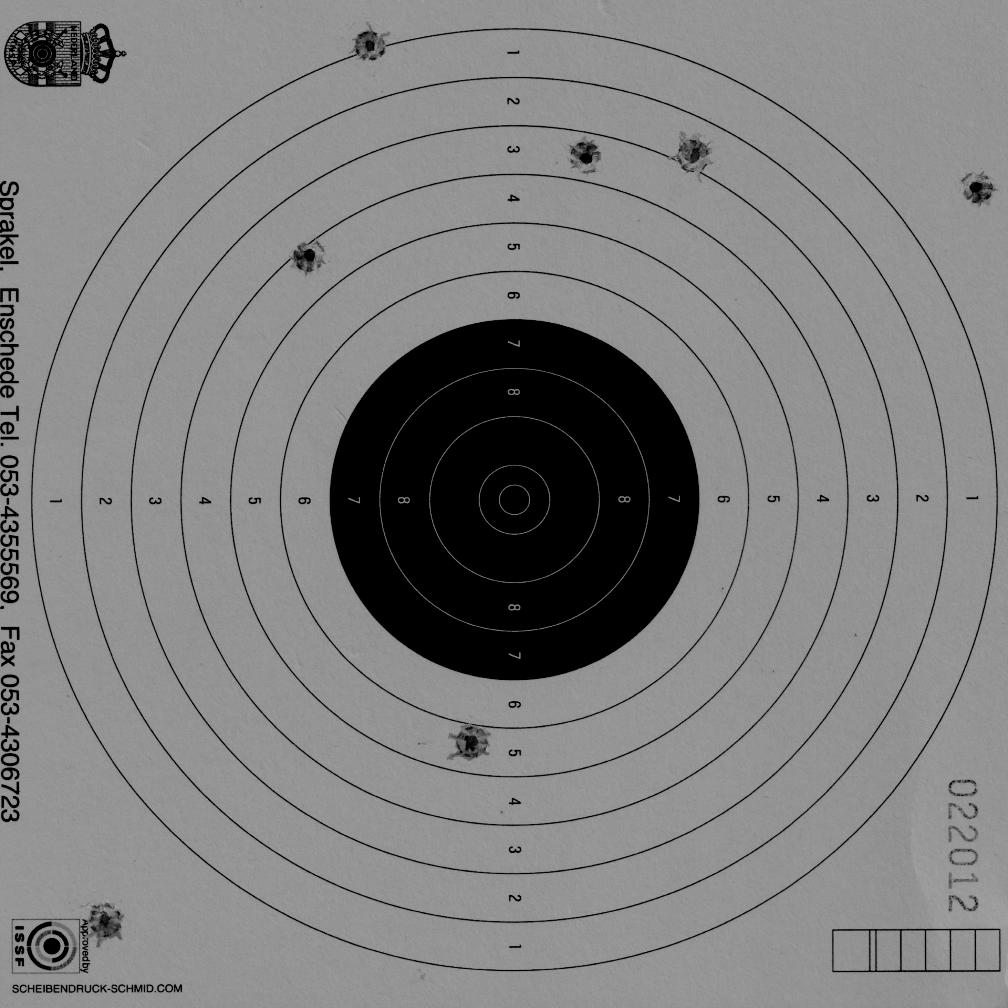0: (76, 899, 131, 950), (956, 167, 1000, 211), (346, 22, 391, 65)
3: (667, 131, 718, 182), (567, 136, 603, 176)
4: (289, 238, 328, 277)
6: (444, 721, 491, 764)
Target: (28, 24, 1003, 976)
black_contour: (328, 321, 698, 682)
